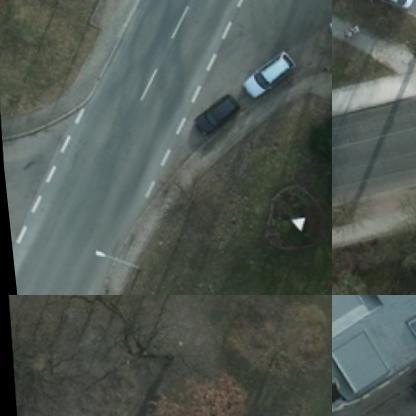car: (233, 50, 294, 100), (182, 91, 235, 135), (351, 0, 414, 12), (399, 364, 415, 405)
